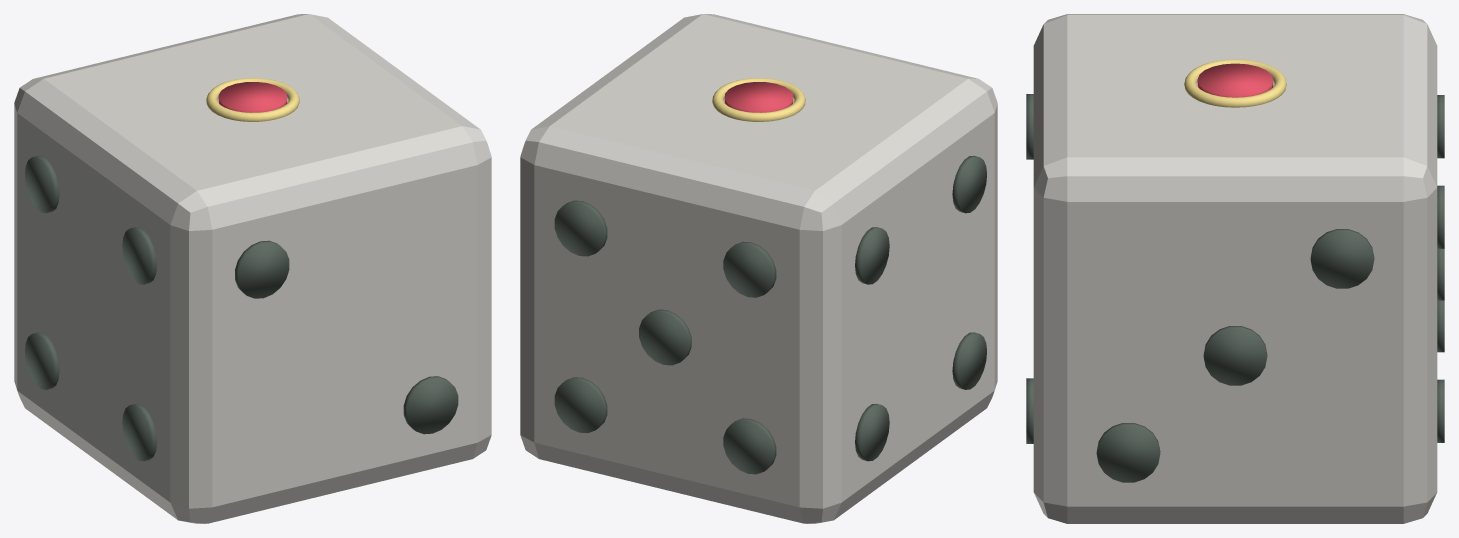
Rendered from dado_pampa.glb.
3 renders of one model, left to right at view 1: azimuth 30°, elevation 25°; view 2: azimuth 150°, elevation 25°; view 3: azimuth 270°, elevation 25°, orthographic. The views are drawn at different scales.
Visible parts, largest first — view 1: DiceCube, Pip2b, Pip2a, Pip1, Pip1GoldRing, Pip4_-0.175_0.175, Pip4_-0.175_-0.175, Pip4_0.175_-0.175, Pip4_0.175_0.175; view 2: DiceCube, Pip5_0.175_-0.175, Pip5_-0.175_-0.175, Pip5_0.175_0.175, Pip5_-0.175_0.175, Pip5c, Pip1, Pip1GoldRing, Pip4_0.175_0.175, Pip4_0.175_-0.175, Pip4_-0.175_-0.175, Pip4_-0.175_0.175; view 3: DiceCube, Pip3b, Pip3a, Pip3c, Pip1, Pip1GoldRing, Pip2a, Pip2b, Pip5_0.175_0.175, Pip5_0.175_-0.175, Pip5_-0.175_0.175.
Boxes of the visible parts, bbox=[...] form: DiceCube: bbox=[14, 14, 491, 523]; Pip2b: bbox=[403, 376, 458, 434]; Pip2a: bbox=[235, 240, 289, 298]; Pip1: bbox=[218, 82, 287, 112]; Pip1GoldRing: bbox=[206, 78, 299, 121]; Pip4_-0.175_0.175: bbox=[122, 227, 156, 284]; Pip4_-0.175_-0.175: bbox=[122, 404, 156, 461]; Pip4_0.175_-0.175: bbox=[25, 332, 59, 389]; Pip4_0.175_0.175: bbox=[25, 156, 59, 213]; DiceCube: bbox=[520, 14, 997, 523]; Pip5_0.175_-0.175: bbox=[554, 377, 607, 433]; Pip5_-0.175_-0.175: bbox=[723, 418, 776, 474]; Pip5_0.175_0.175: bbox=[554, 200, 607, 256]; Pip5_-0.175_0.175: bbox=[723, 241, 776, 297]; Pip5c: bbox=[639, 309, 691, 365]; Pip1: bbox=[724, 82, 793, 112]; Pip1GoldRing: bbox=[712, 78, 805, 121]; Pip4_0.175_0.175: bbox=[855, 227, 889, 284]; Pip4_0.175_-0.175: bbox=[855, 404, 889, 461]; Pip4_-0.175_-0.175: bbox=[952, 332, 986, 389]; Pip4_-0.175_0.175: bbox=[952, 156, 986, 213]; DiceCube: bbox=[1033, 14, 1437, 523]; Pip3b: bbox=[1310, 229, 1374, 288]; Pip3a: bbox=[1203, 326, 1267, 385]; Pip3c: bbox=[1096, 423, 1160, 482]; Pip1: bbox=[1197, 63, 1273, 97]; Pip1GoldRing: bbox=[1184, 59, 1286, 107]; Pip2a: bbox=[1026, 94, 1033, 159]; Pip2b: bbox=[1026, 378, 1033, 443]; Pip5_0.175_0.175: bbox=[1437, 185, 1444, 248]; Pip5_0.175_-0.175: bbox=[1437, 379, 1444, 442]; Pip5_-0.175_0.175: bbox=[1437, 95, 1444, 158].
Bounding box in the file's own units: 0.684 × 0.6847 × 0.684.
